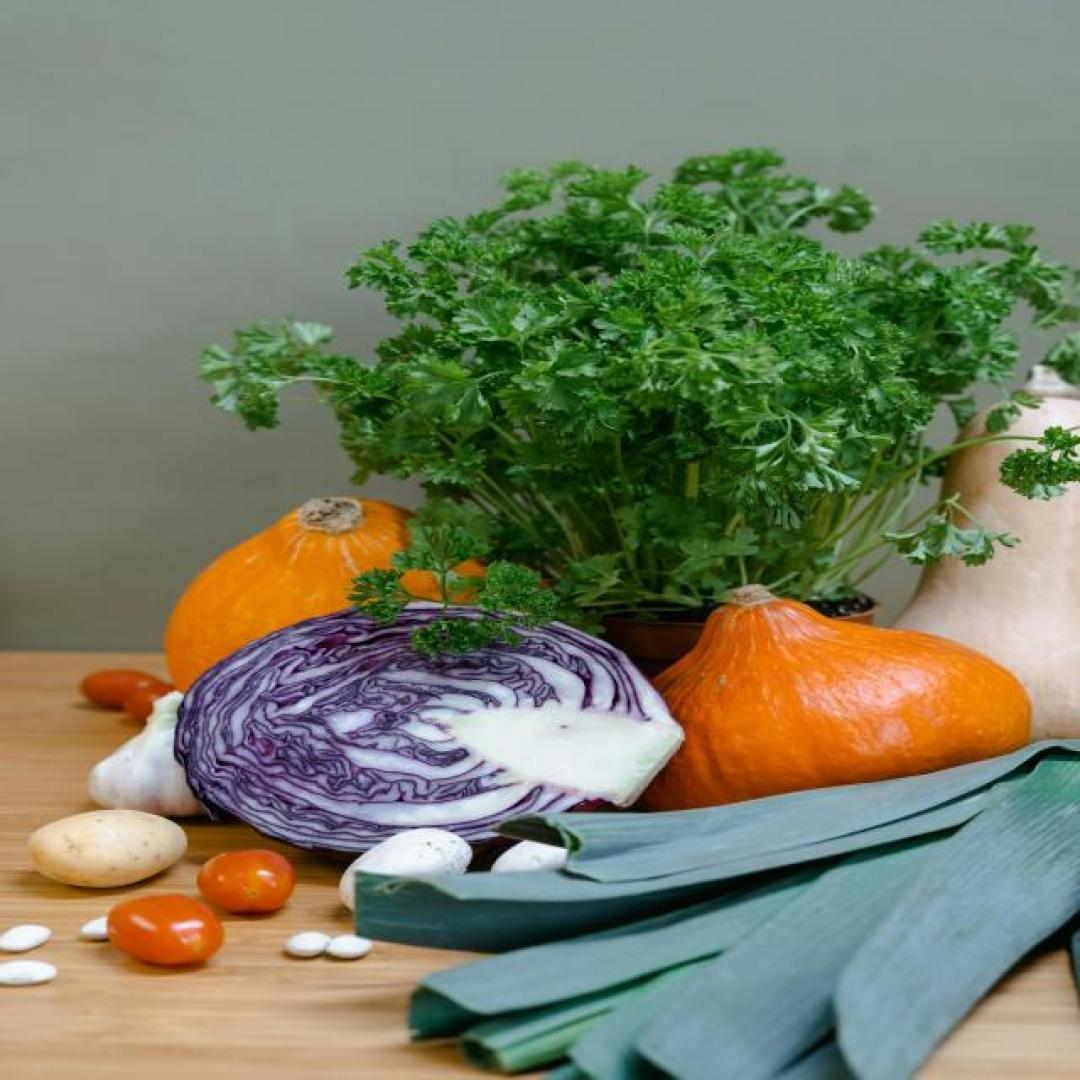matang: (106, 896, 224, 967), (196, 849, 297, 913)
